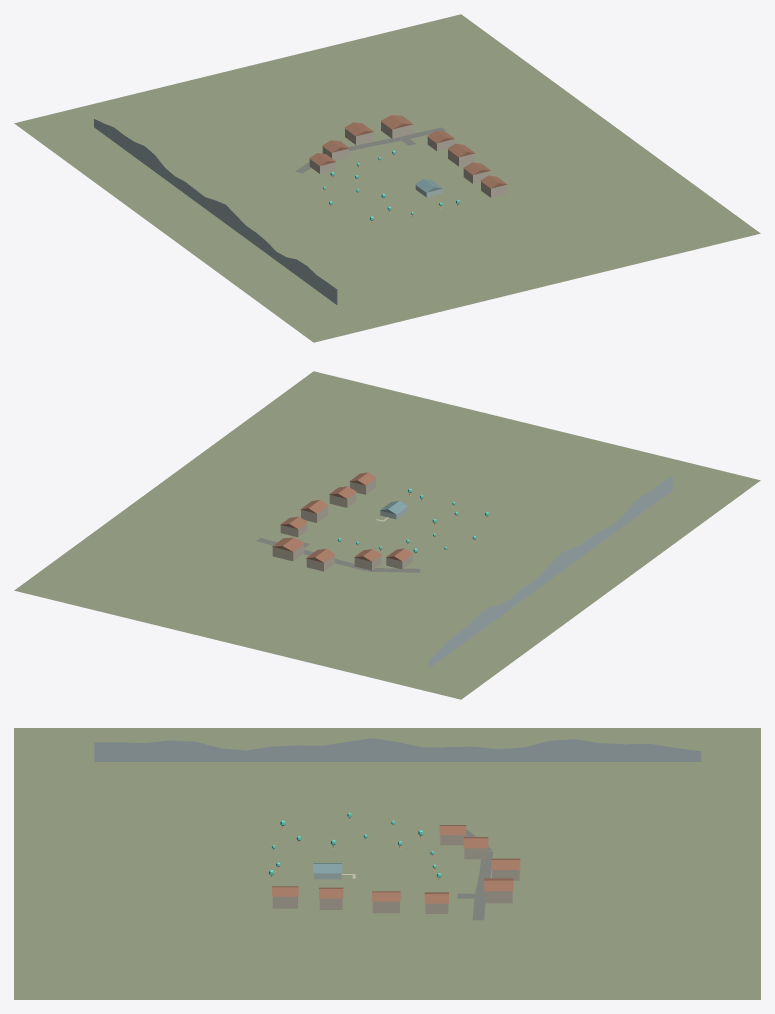
Rendered from context-r01.glb.
3 renders of one model, top to bottom at view 1: azimuth 30°, elevation 25°; view 2: azimuth 150°, elevation 25°; view 3: azimuth 270°, elevation 25°, orthographic. The views are drawn at different scales.
Parts seen in each view (by area): view 1: context_ground, photo_inspired_ridge; view 2: context_ground, photo_inspired_ridge; view 3: context_ground, photo_inspired_ridge.
Boxes of the visible parts, x1,y1,x2,y2 form: context_ground: (14,14,760,342); photo_inspired_ridge: (94,119,337,304); context_ground: (14,371,760,699); photo_inspired_ridge: (429,475,672,668); context_ground: (14,728,760,999); photo_inspired_ridge: (94,738,701,761).
Bounding box in the file's own units: 280 × 11.46 × 325.
